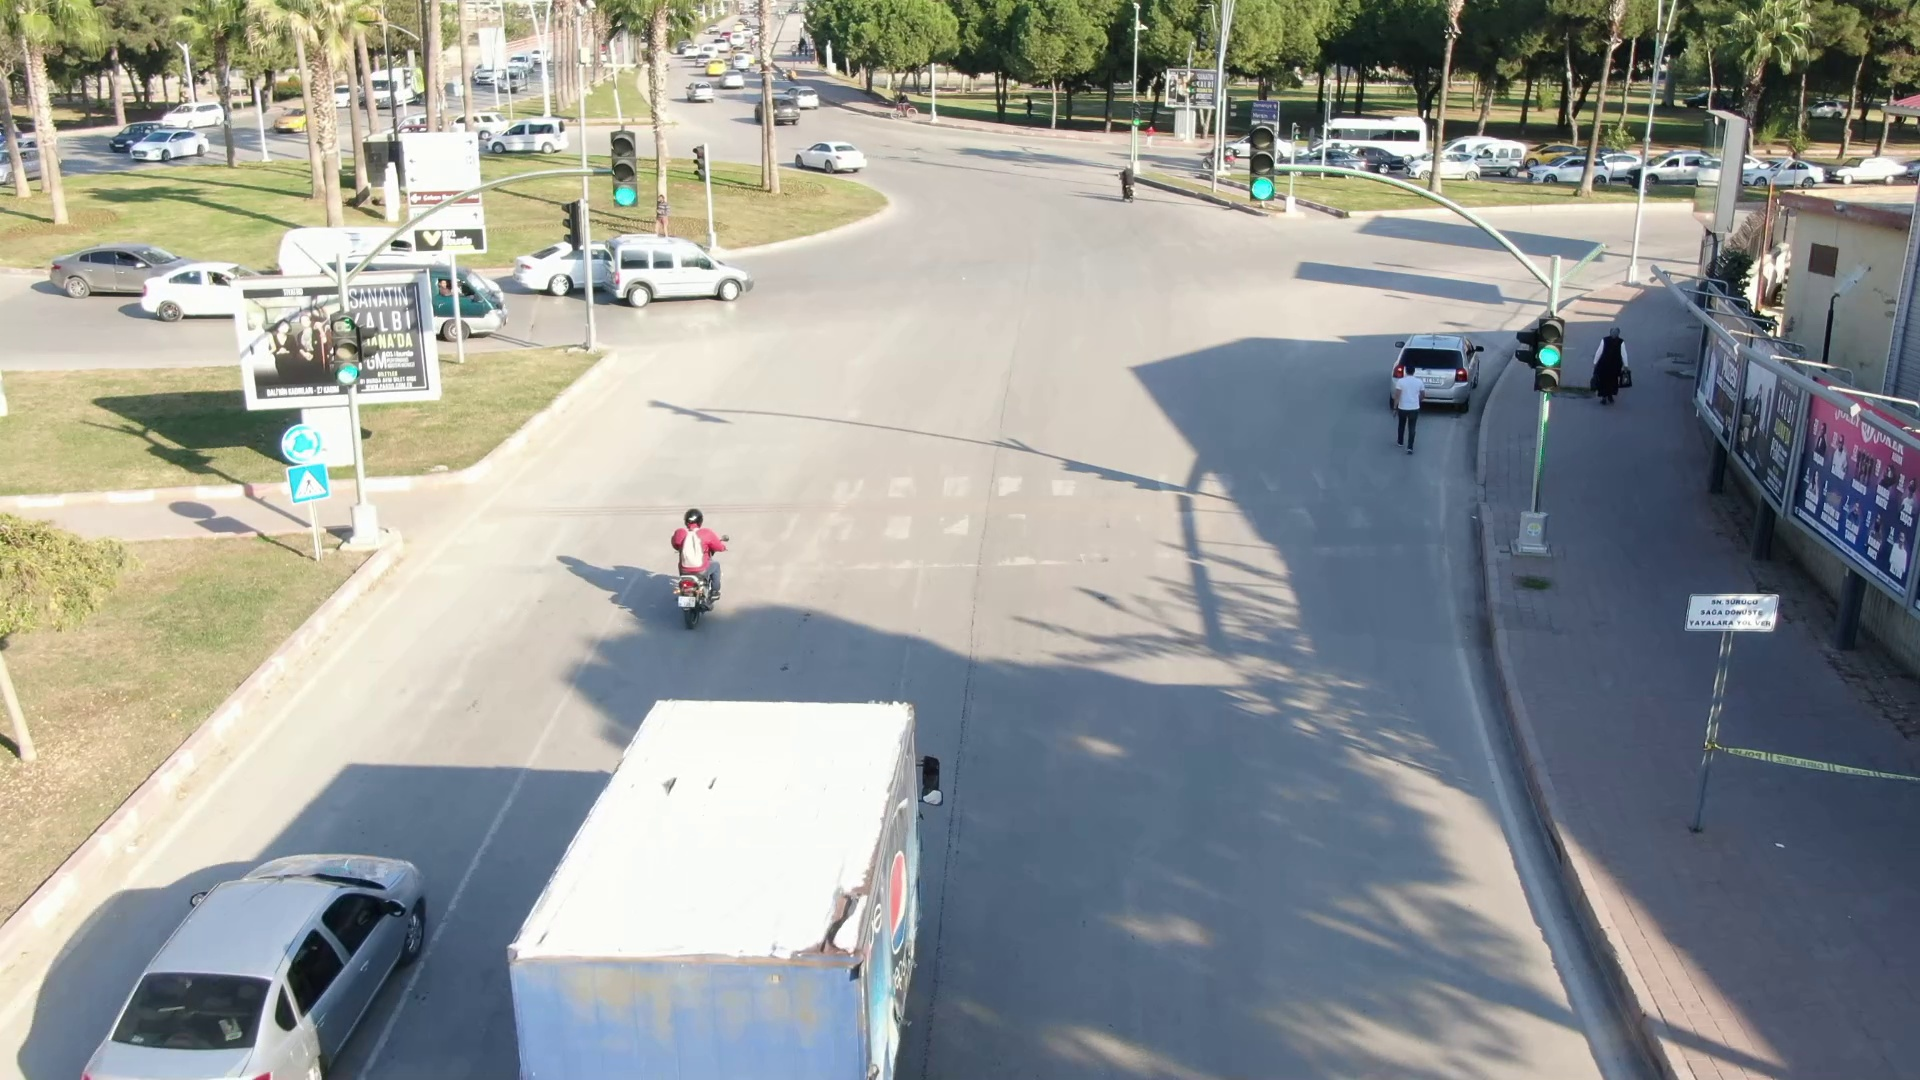car: (56, 803, 451, 1080), (39, 227, 208, 332), (595, 225, 758, 314), (484, 114, 579, 163), (787, 132, 885, 178), (129, 125, 216, 168), (683, 75, 717, 105)
person: (661, 487, 744, 603), (1382, 356, 1435, 461), (1586, 318, 1642, 409)
